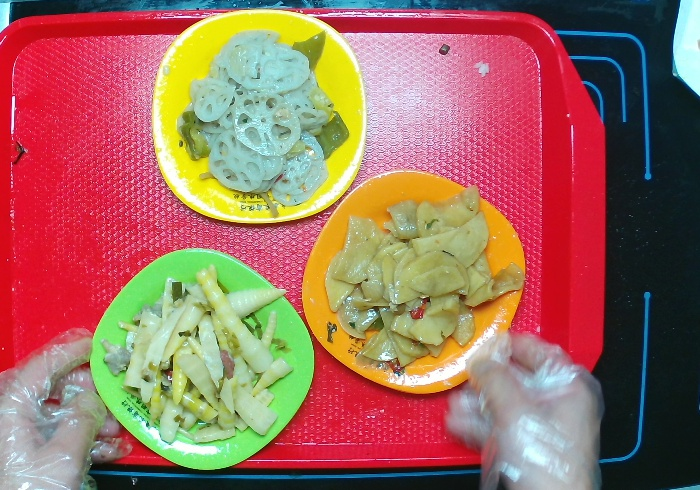YKMZ-Huang_Se_Fang_Die: (150, 7, 368, 225)
YKMZ-Ju_Se_Fang_Die: (300, 167, 527, 395)
YKMZ-Lv_Se_Fang_Die: (88, 246, 316, 471)
